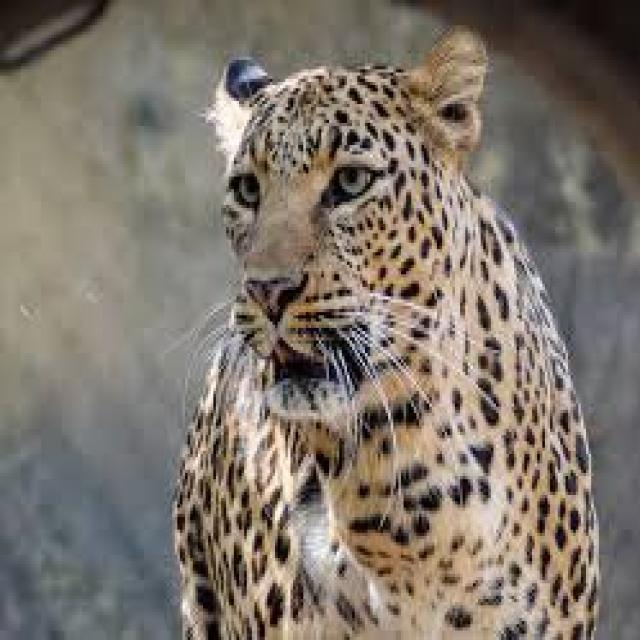Leopard: (177, 34, 596, 640)
